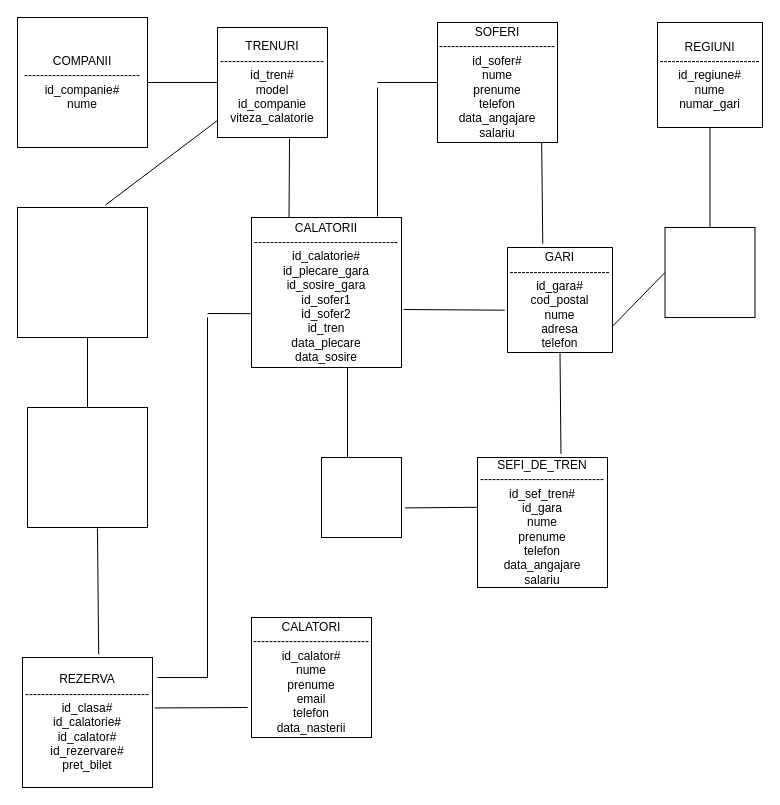
Some shapes in this 780 by 805 pixel diagram are drawn without their labels. The shapes that lost their labels are listed below. From the top down, each one's centre as x and y in pixels, then its label:
point 82,272: TRENURI_AU_CLASE ------------------------------- id_clasa# id_tren# capacitate
point 709,272: ORAS --------------------- cod_postal# nume id_gara id_regiune
point 87,467: CLASE ----------------------------- id_clasa# nume pret facilitati
point 361,497: INSOTESC ------------------- id_sef_tren# id_calatorie#
